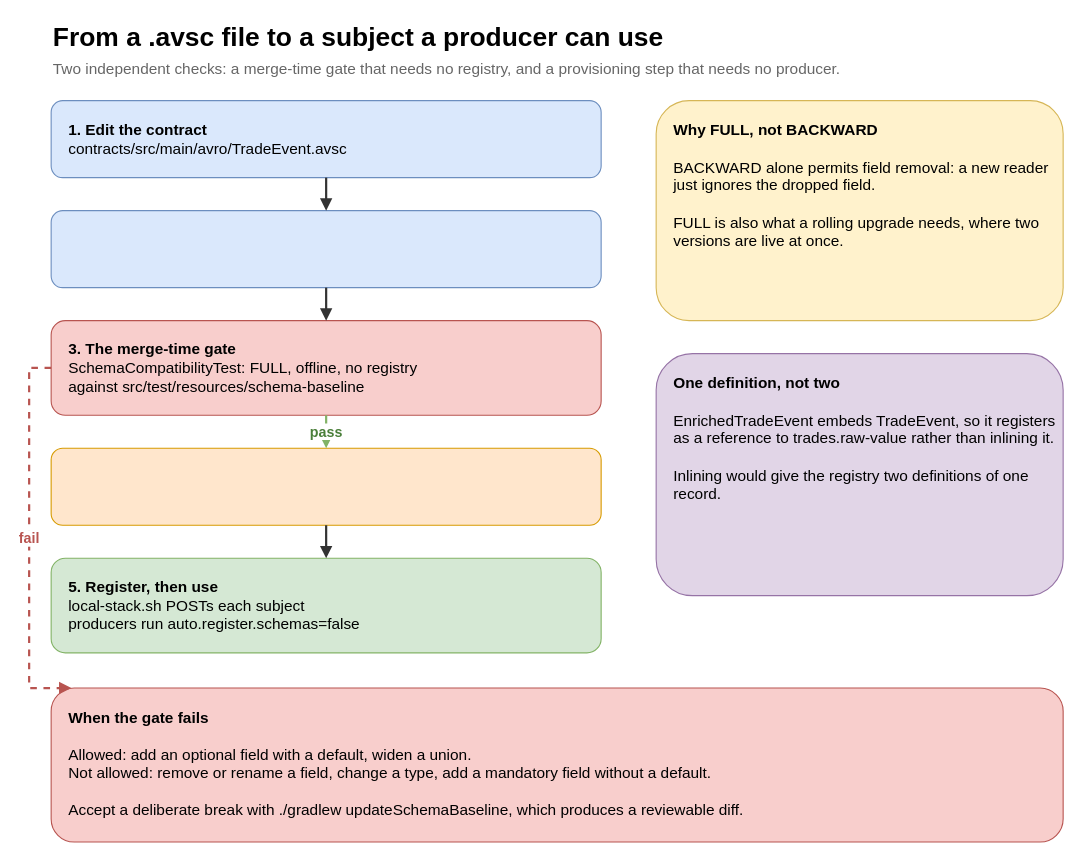
The diagram is 1082 pixels wide and 861 high, and some of its shapes have lost their labels. The shapes that lost their labels are listed below. From the top down, each one's centre as x and y in pixels, then its label:
pixel 325 249: 2. Generate types Avro plugin, 31 Java types at build time
pixel 325 486: 4. Name the subject deploy/compose/subjects.tsv
